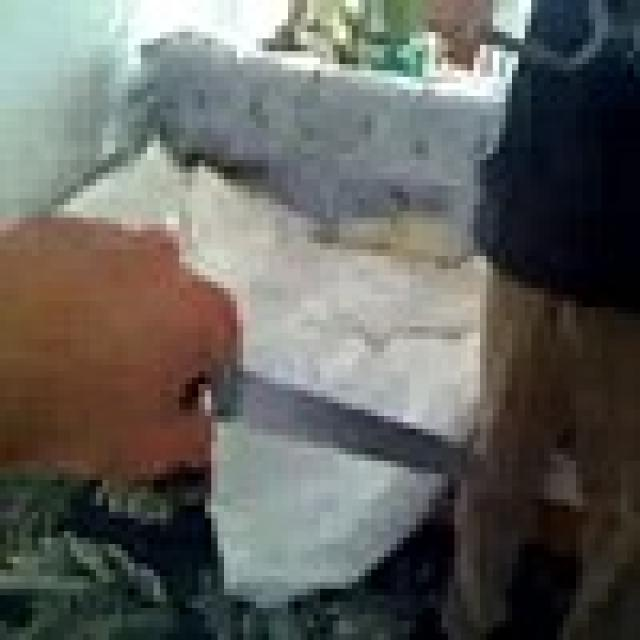Knife_Handle: (0, 214, 499, 483)
